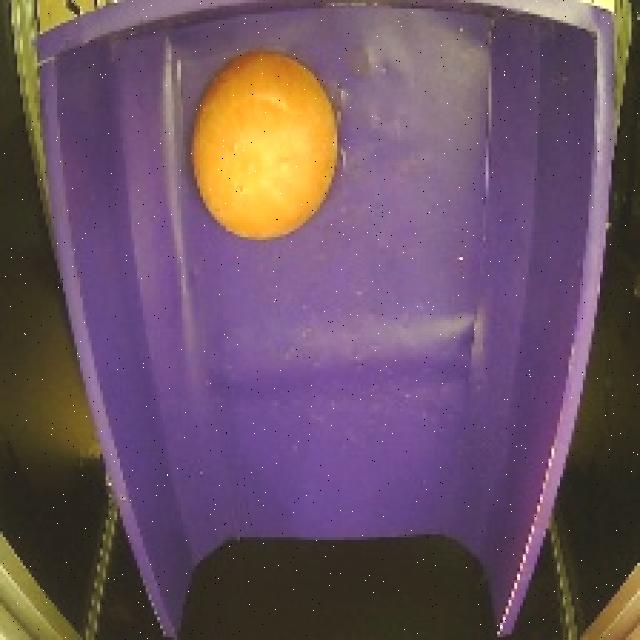carrots: (182, 46, 346, 252)
